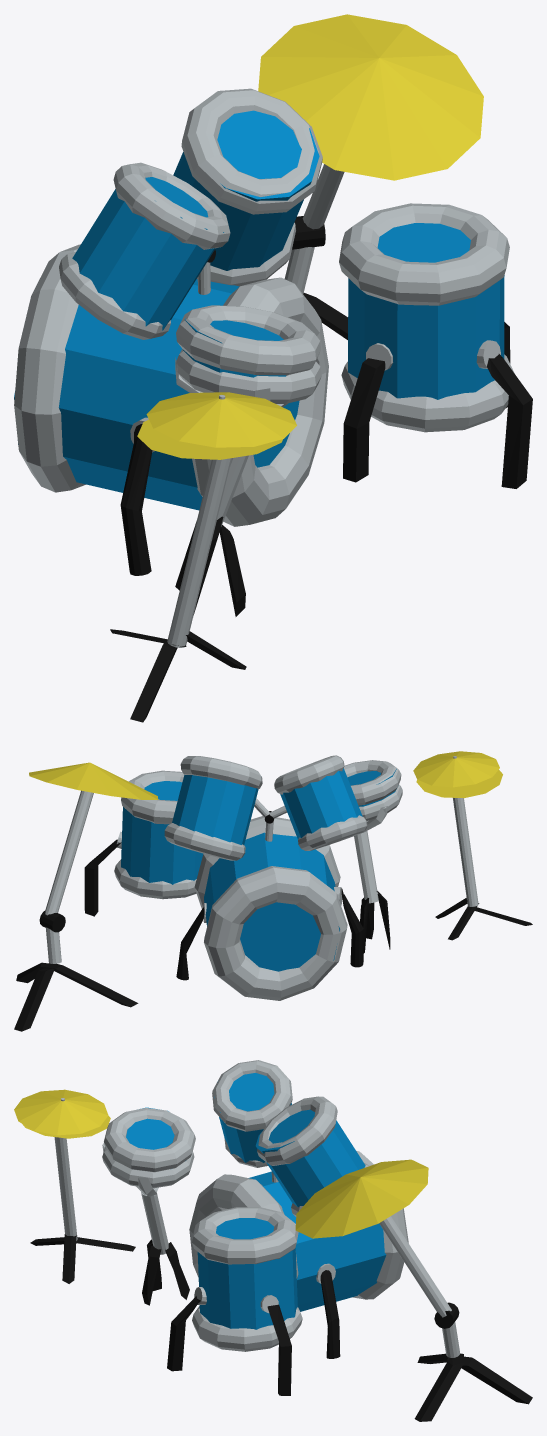
3 renders of one model, top to bottom at view 1: azimuth 30°, elevation 25°; view 2: azimuth 150°, elevation 25°; view 3: azimuth 270°, elevation 25°, orthographic. The views are drawn at different scales.
Visible parts, largest first — view 1: node_MeshObject-1142069760-PolyPaper5; view 2: node_MeshObject-1142069760-PolyPaper5; view 3: node_MeshObject-1142069760-PolyPaper5.
Part boxes in pixels (left/top/right/bottom): node_MeshObject-1142069760-PolyPaper5: left=14, top=14, right=532, bottom=722; node_MeshObject-1142069760-PolyPaper5: left=14, top=751, right=532, bottom=1031; node_MeshObject-1142069760-PolyPaper5: left=14, top=1060, right=532, bottom=1421.
Bounding box in the file's own units: 2.15 × 1.35 × 2.57.
